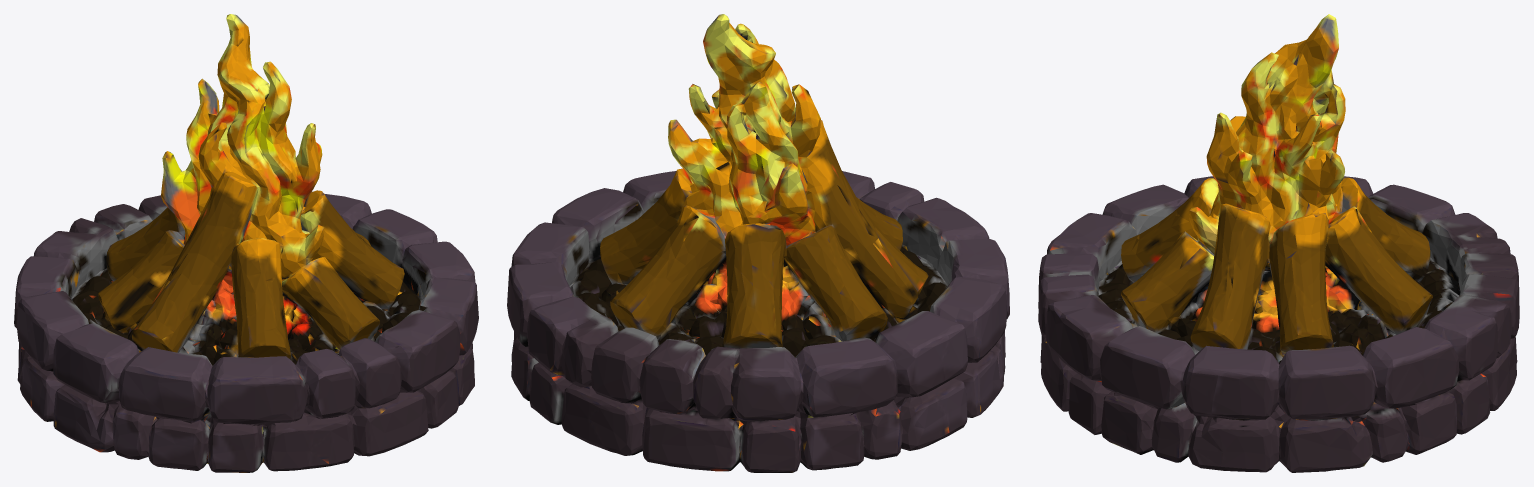
The model's file is fogueira.glb.
3 renders of one model, left to right at view 1: azimuth 30°, elevation 25°; view 2: azimuth 150°, elevation 25°; view 3: azimuth 270°, elevation 25°, orthographic. The views are drawn at different scales.
Parts seen in each view (by area): view 1: tmp5d75ao0m.ply; view 2: tmp5d75ao0m.ply; view 3: tmp5d75ao0m.ply.
Part boxes in pixels (x1,y1,x2,y2): tmp5d75ao0m.ply: (14,14,478,472); tmp5d75ao0m.ply: (507,14,1009,472); tmp5d75ao0m.ply: (1038,14,1519,472).
Size of the model in its own units: 1.96 by 1.64 by 1.96.
1 material, 1 textured.
